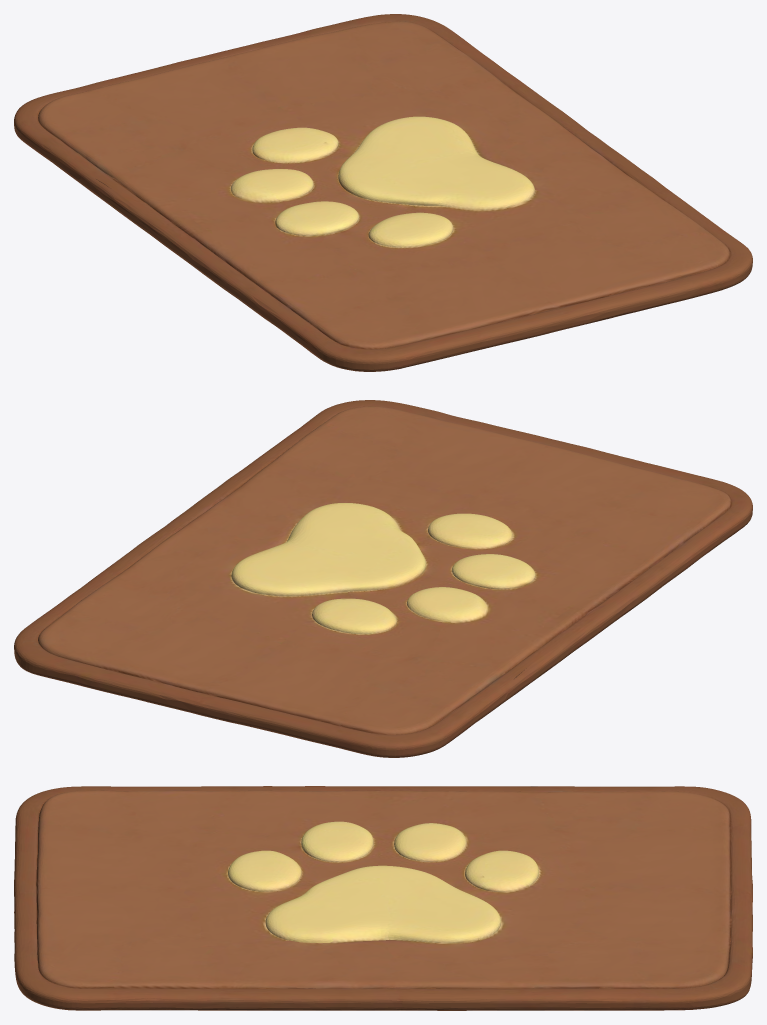
3 renders of one model, top to bottom at view 1: azimuth 30°, elevation 25°; view 2: azimuth 150°, elevation 25°; view 3: azimuth 270°, elevation 25°, orthographic. The views are drawn at different scales.
Parts seen in each view (by area): view 1: tripo_node_8de50814-fde2-449d-9763-9a079b1d8e32; view 2: tripo_node_8de50814-fde2-449d-9763-9a079b1d8e32; view 3: tripo_node_8de50814-fde2-449d-9763-9a079b1d8e32.
Boxes of the visible parts, <box> form: tripo_node_8de50814-fde2-449d-9763-9a079b1d8e32: <box>14,14,752,371</box>; tripo_node_8de50814-fde2-449d-9763-9a079b1d8e32: <box>14,400,752,757</box>; tripo_node_8de50814-fde2-449d-9763-9a079b1d8e32: <box>14,786,752,1010</box>.
Size of the model in its own units: 0.6705 by 0.051 by 0.9782.
Materials: 1 (1 with a texture image).
